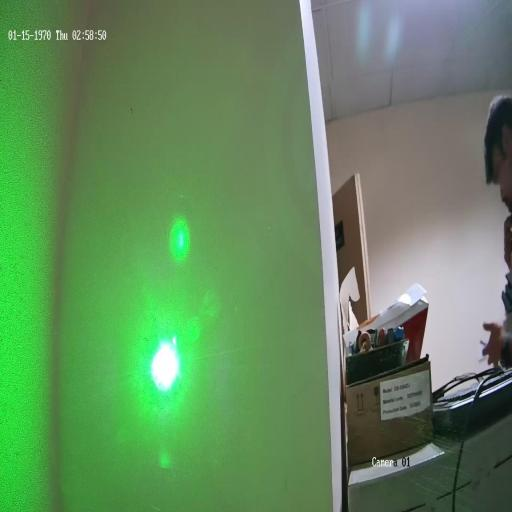laser: (139, 313, 193, 414)
